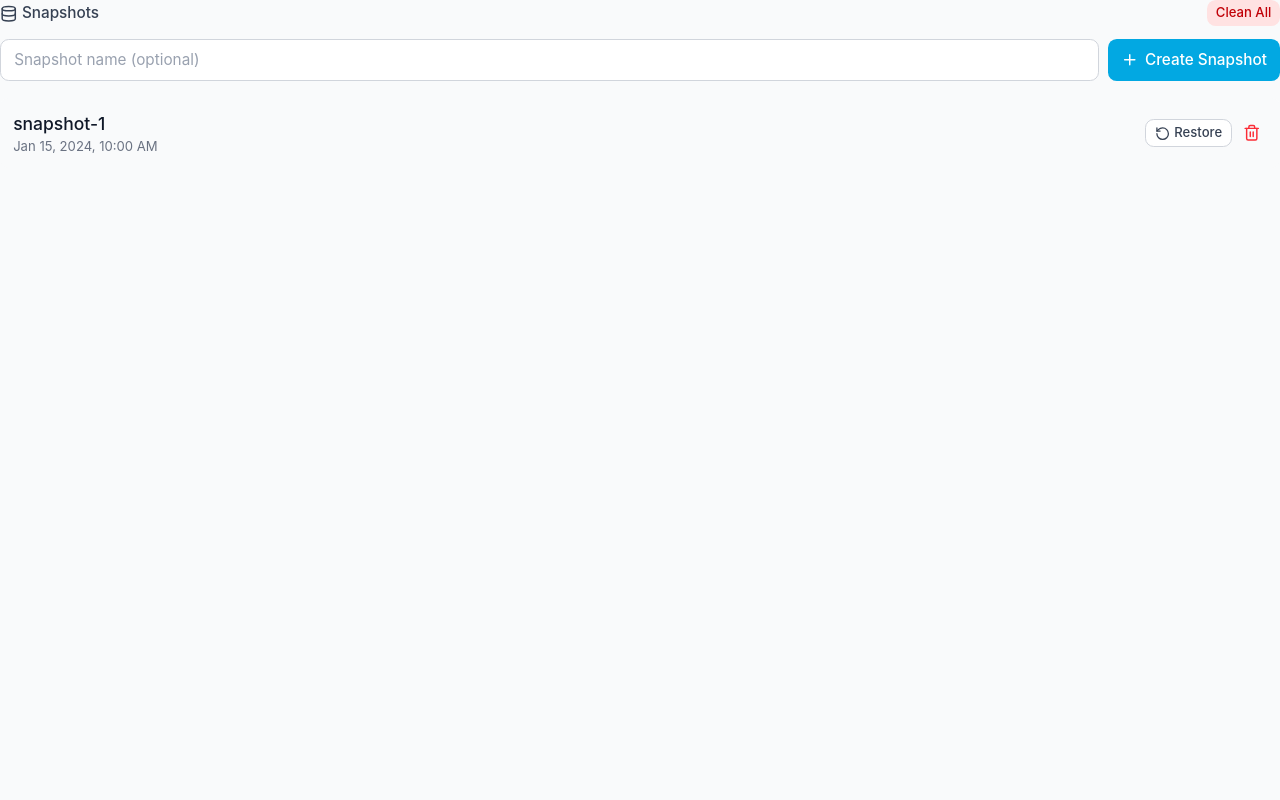
Test: SnapshotsSection › restore snapshot › should show restore confirmation dialog
Expected: the text "snapshot-1" is shown, [13,113,105,134]
Click the Restore button in the list
Click the button "Restore" at (1188, 133), box [1145,119,1232,147]
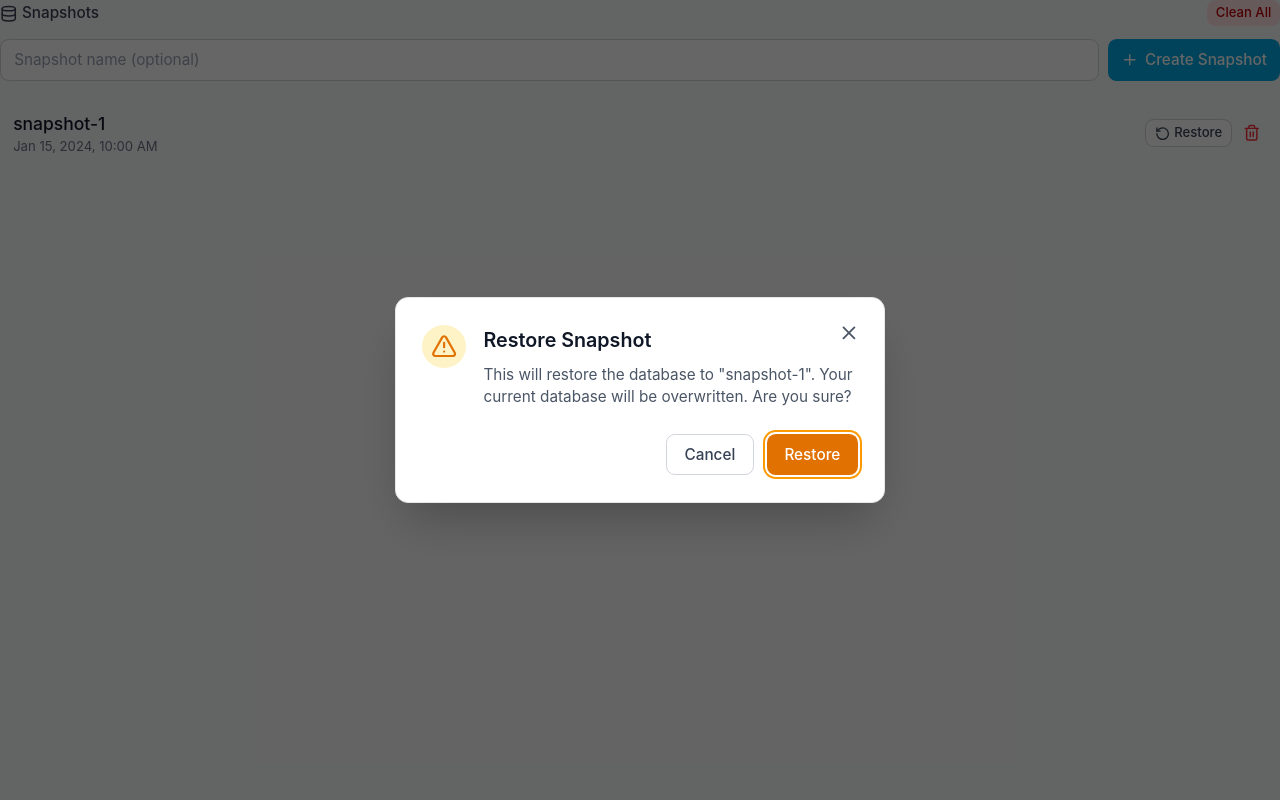
Expected: the heading "Restore Snapshot" is shown, [484,328,651,352]
Expected: the text "This will restore the database to \"snapshot-1\"" is shown, [484,365,852,406]
